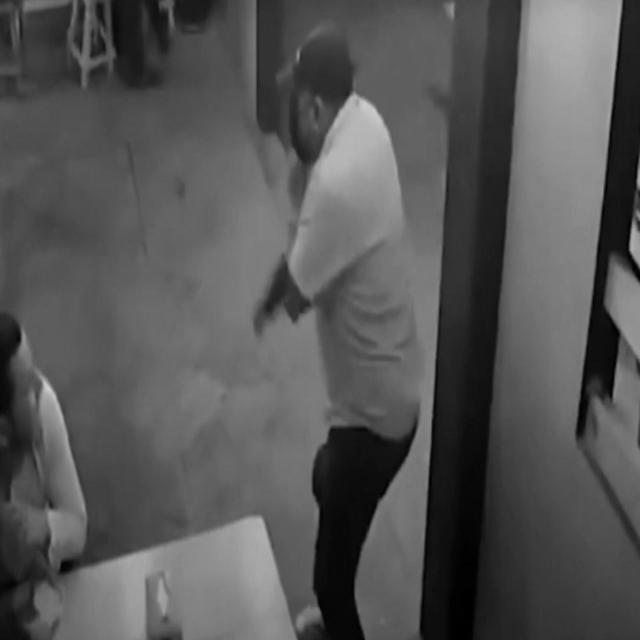gun: (257, 270, 284, 330)
person: (0, 312, 89, 578)
person with a gun: (256, 20, 425, 640)
